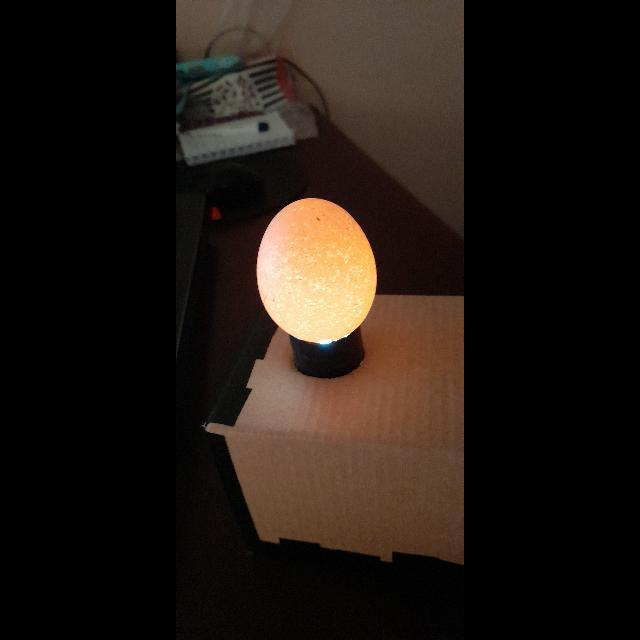A - Good: (248, 188, 390, 353)
